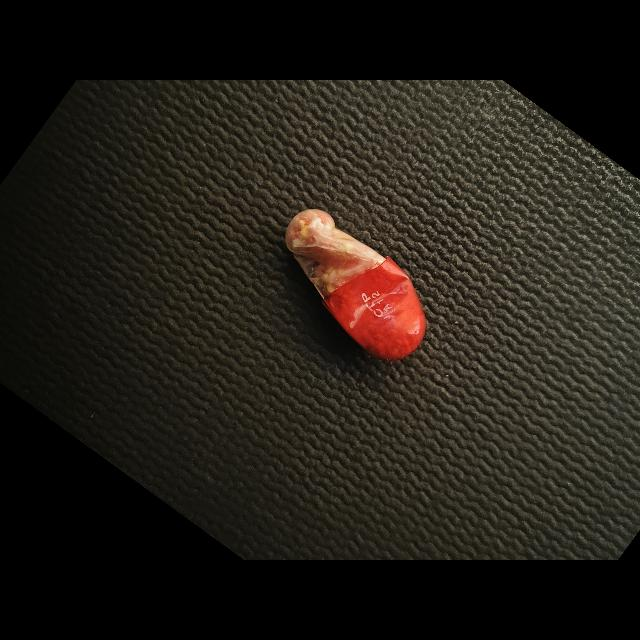Defective Capsule: (285, 209, 425, 360)
